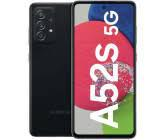Smartphone: (73, 5, 135, 138), (29, 1, 72, 133)
